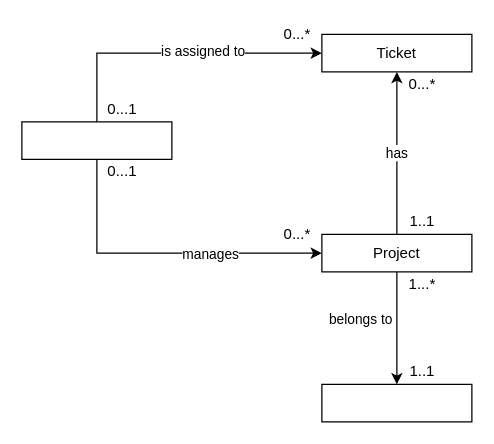
Image size: 494x444. Some labels were removed from this diagram. The centre of each missing label's shape, as x and y in pixels:
Company: the point at 396,402
User: the point at 96,140
